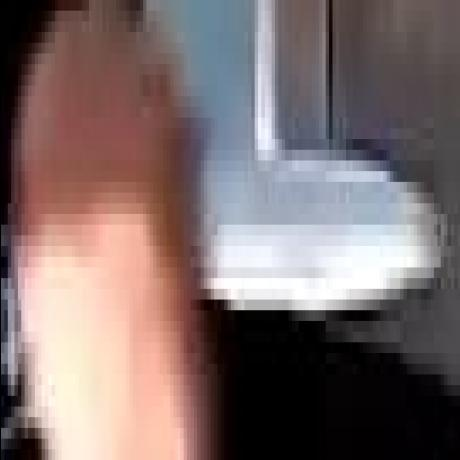weapon: (194, 130, 448, 321)
